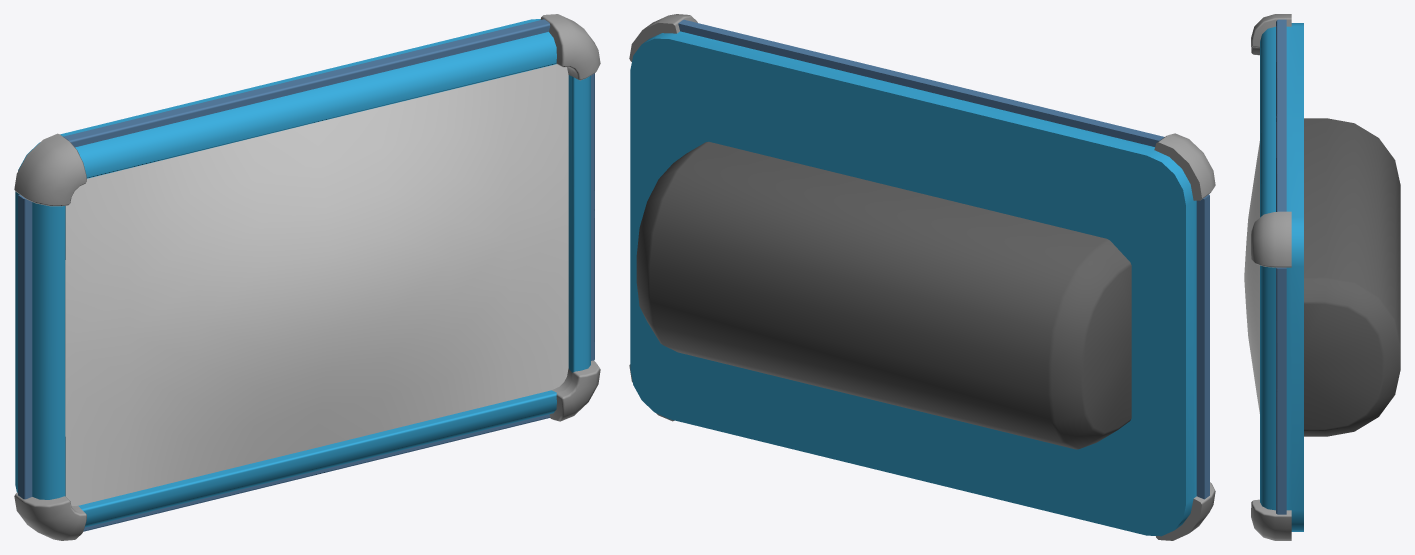
The model's file is Screen_Big.fbx.
The picture shows the model from 3 angles, left to right: view 1: azimuth 30°, elevation 25°; view 2: azimuth 150°, elevation 25°; view 3: azimuth 270°, elevation 25°; orthographic projection. The views are drawn at different scales.
Visible parts, largest first — view 1: Screen_Big; view 2: Screen_Big; view 3: Screen_Big.
Part boxes in pixels (box(x1,y1,x2,y2)): Screen_Big: box(14, 14, 600, 540); Screen_Big: box(629, 14, 1215, 540); Screen_Big: box(1244, 14, 1400, 540).
Bounding box in the file's own units: 150 × 99.2 × 43.25.
